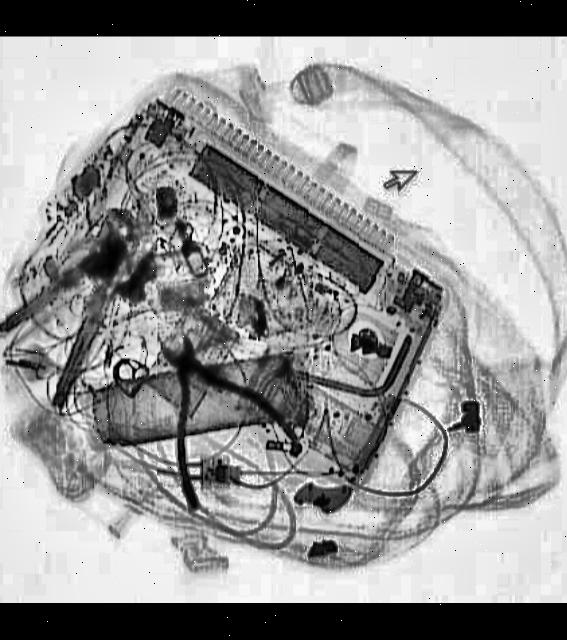Pliers: (117, 307, 308, 508), (0, 185, 170, 408)
